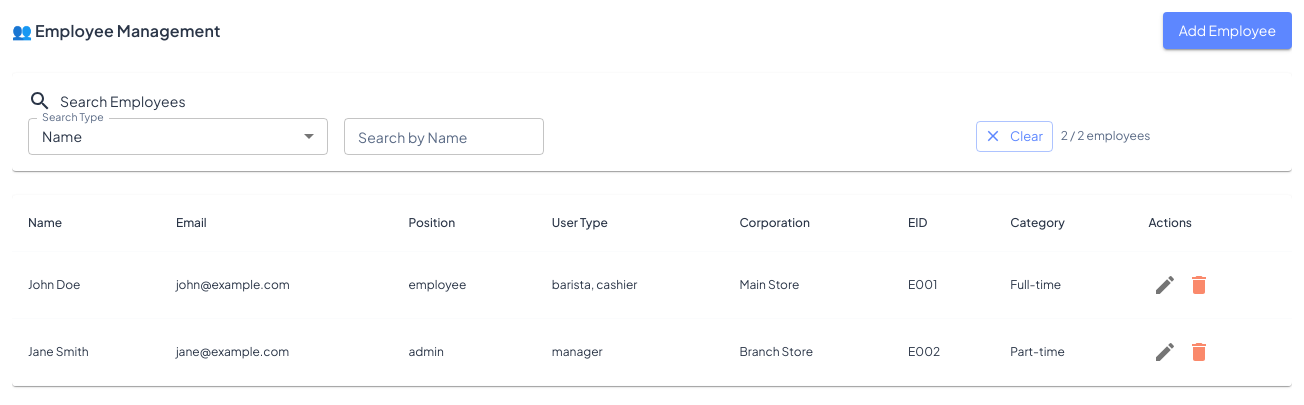
EmployeeManagement › Search Functionality › filters employees by name search
Expected: the text "John Doe" is shown, [12,252,160,318]
Expected: the text "Jane Smith" is shown, [12,318,160,386]
# Search by name
In the field labelled "Search by Name": (444, 136) [344,118,544,155], type "John"
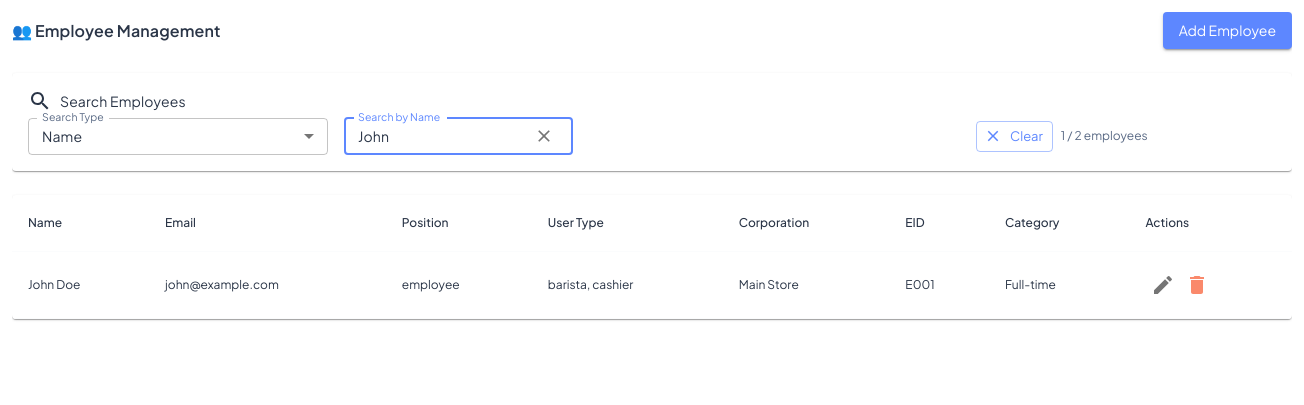
Expected: the text "John Doe" is shown, [12,252,149,318]
Expected: the text "Jane Smith" is gone
Expected: the text "1 / 2 employees" is shown, [1061,128,1148,144]
